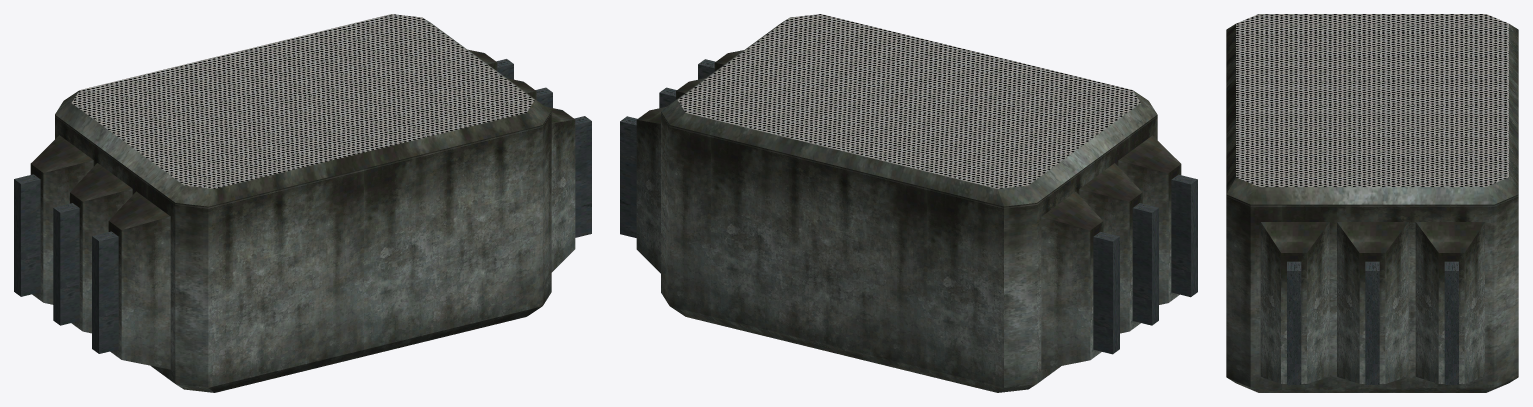
The model's file is thm_tato_debris_s08_l1.fbx.
3 views of the same model, side by side, from view 1: azimuth 30°, elevation 25°; view 2: azimuth 150°, elevation 25°; view 3: azimuth 270°, elevation 25° (orthographic).
Visible parts, largest first — view 1: mesh_node; view 2: mesh_node; view 3: mesh_node.
Part boxes in pixels (<box>): mesh_node: <box>14,14,591,392</box>; mesh_node: <box>620,14,1197,392</box>; mesh_node: <box>1226,14,1518,392</box>.
Size of the model in its own units: 0.7964 by 0.315 by 0.4052.
